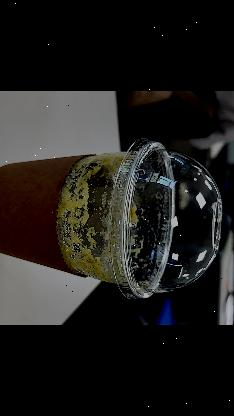Others: (0, 136, 222, 301), (104, 138, 224, 302)
